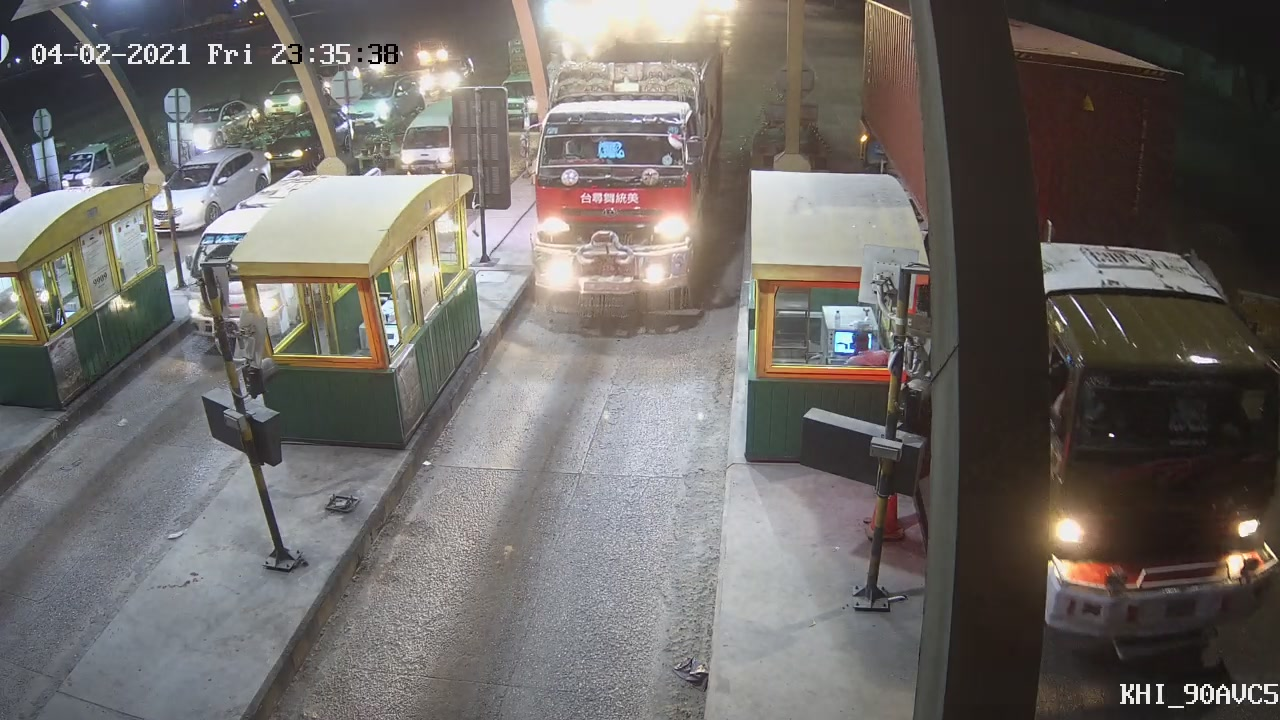F5: (514, 49, 712, 330)
